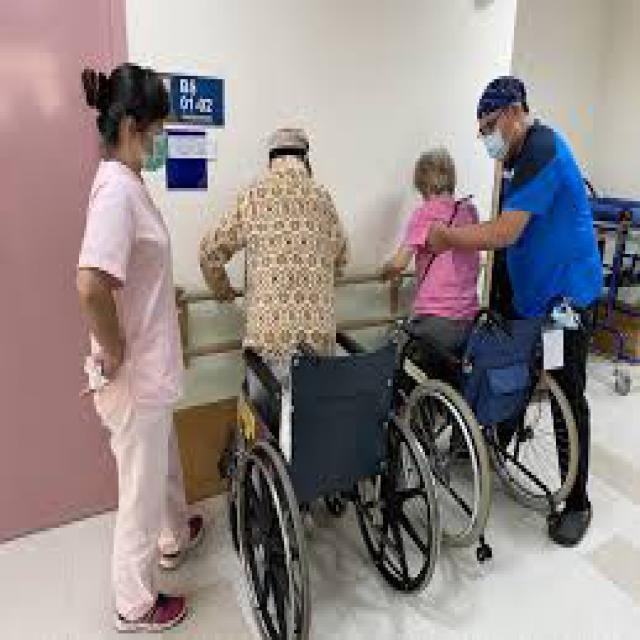wheelchairs: (220, 330, 440, 637), (410, 284, 586, 636)
